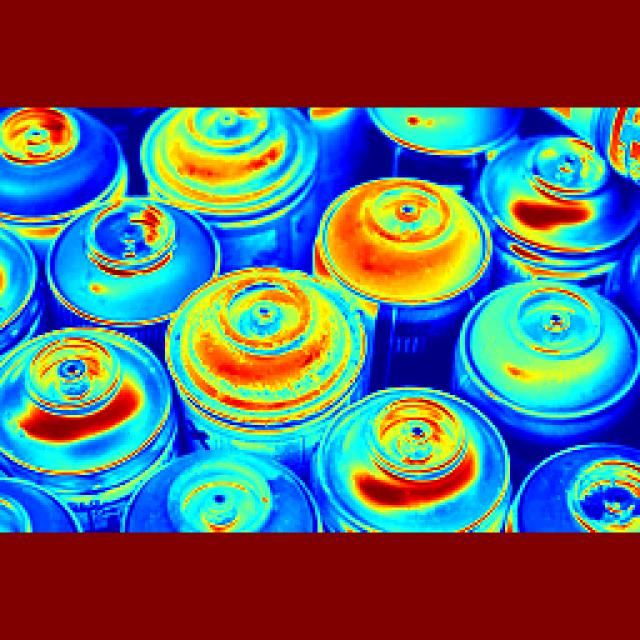Aerosol Cans: (168, 266, 371, 454), (460, 268, 640, 435), (325, 378, 509, 536)
